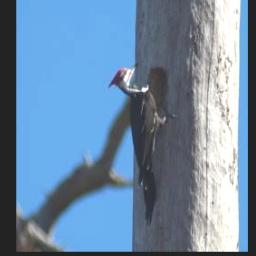Woodpecker: (108, 61, 179, 226)
